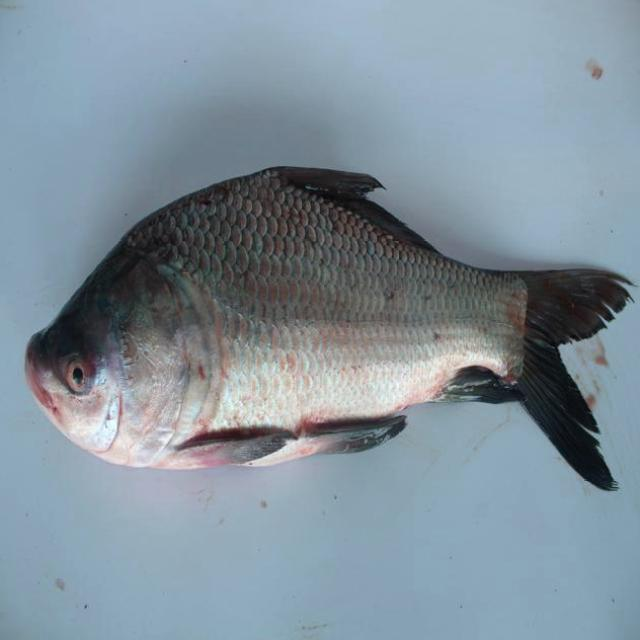Catla: (24, 164, 631, 492)
